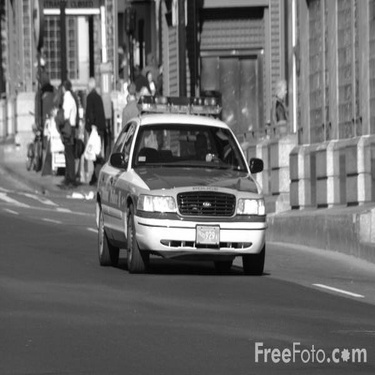car: (84, 93, 273, 283)
